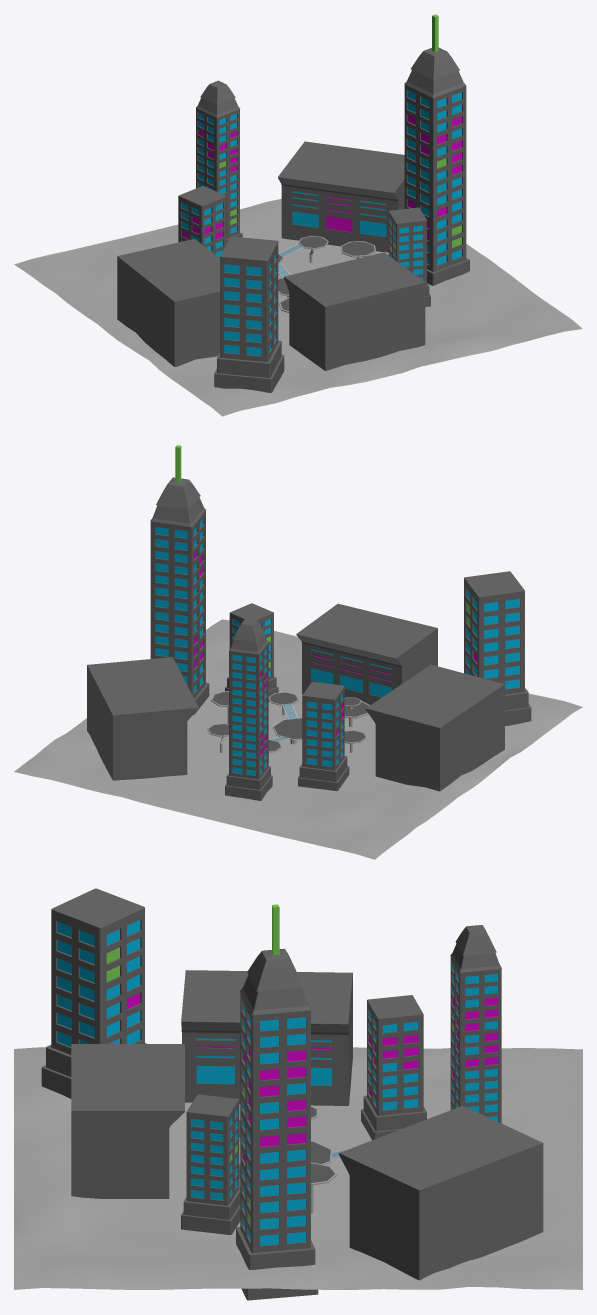
The model's file is Arena.fbx.
The picture shows the model from 3 angles, top to bottom: view 1: azimuth 30°, elevation 25°; view 2: azimuth 150°, elevation 25°; view 3: azimuth 270°, elevation 25°; orthographic projection. The views are drawn at different scales.
Parts seen in each view (by area): view 1: Ground, Building4, Building2, Building1, Building6, Building5, Building8, Building7, Building3, Platform3; view 2: Ground, Building6, Building1, Building2, Building4, Building5, Building8, Building7, Building3, MainPlatform; view 3: Ground, Building1, Building2, Building4, Building5, Building6, Building8, Building7, Building3, Platform5.
Part boxes in pixels (x1,y1,x2,y2): Ground: [14, 199, 582, 416]; Building4: [283, 252, 425, 370]; Building2: [404, 14, 469, 285]; Building1: [278, 141, 404, 252]; Building6: [117, 239, 220, 366]; Building5: [214, 236, 284, 392]; Building8: [196, 80, 242, 243]; Building7: [178, 186, 226, 258]; Building3: [388, 207, 430, 306]; Platform3: [279, 235, 328, 262]; Ground: [14, 619, 582, 859]; Building6: [365, 664, 504, 791]; Building1: [87, 657, 198, 780]; Building2: [150, 445, 209, 715]; Building4: [296, 603, 437, 705]; Building5: [464, 571, 531, 725]; Building8: [225, 619, 272, 800]; Building7: [298, 681, 349, 790]; Building3: [225, 603, 278, 701]; MainPlatform: [272, 717, 302, 740]; Ground: [14, 1047, 582, 1289]; Building1: [338, 1105, 543, 1280]; Building2: [236, 904, 318, 1300]; Building4: [71, 1044, 184, 1198]; Building5: [41, 888, 146, 1098]; Building6: [181, 970, 352, 1105]; Building8: [450, 925, 501, 1123]; Building7: [361, 995, 426, 1140]; Building3: [181, 1094, 240, 1234]; Platform5: [311, 1162, 337, 1213].
Size of the model in its own units: 1238 by 904 by 1238.
